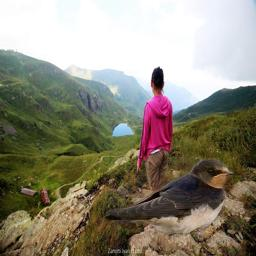Swallow: (103, 157, 234, 241)
